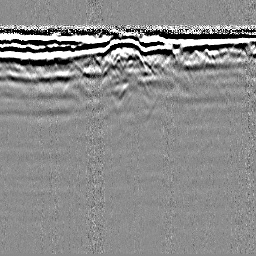cavity: (121, 49, 146, 71)
